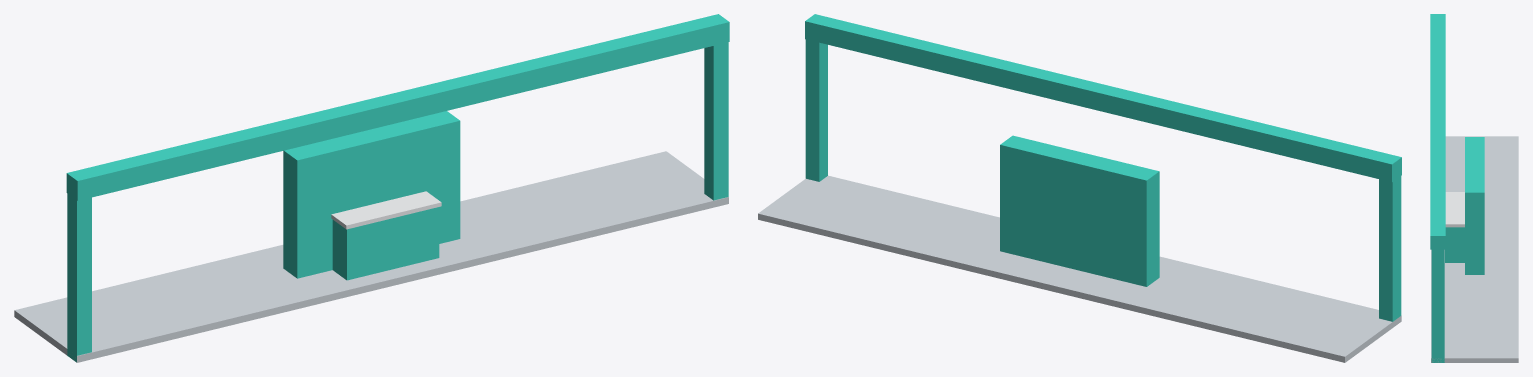
The picture shows the model from 3 angles, left to right: view 1: azimuth 30°, elevation 25°; view 2: azimuth 150°, elevation 25°; view 3: azimuth 270°, elevation 25°; orthographic projection. The views are drawn at different scales.
Parts seen in each view (by area): view 1: Exhibition Booth Concept; view 2: Exhibition Booth Concept; view 3: Exhibition Booth Concept.
Part boxes in pixels (x1,y1,x2,y2): Exhibition Booth Concept: (14, 14, 729, 362); Exhibition Booth Concept: (758, 14, 1401, 362); Exhibition Booth Concept: (1430, 14, 1518, 362).
Bounding box in the file's own units: 12 × 3.2 × 2.01.
